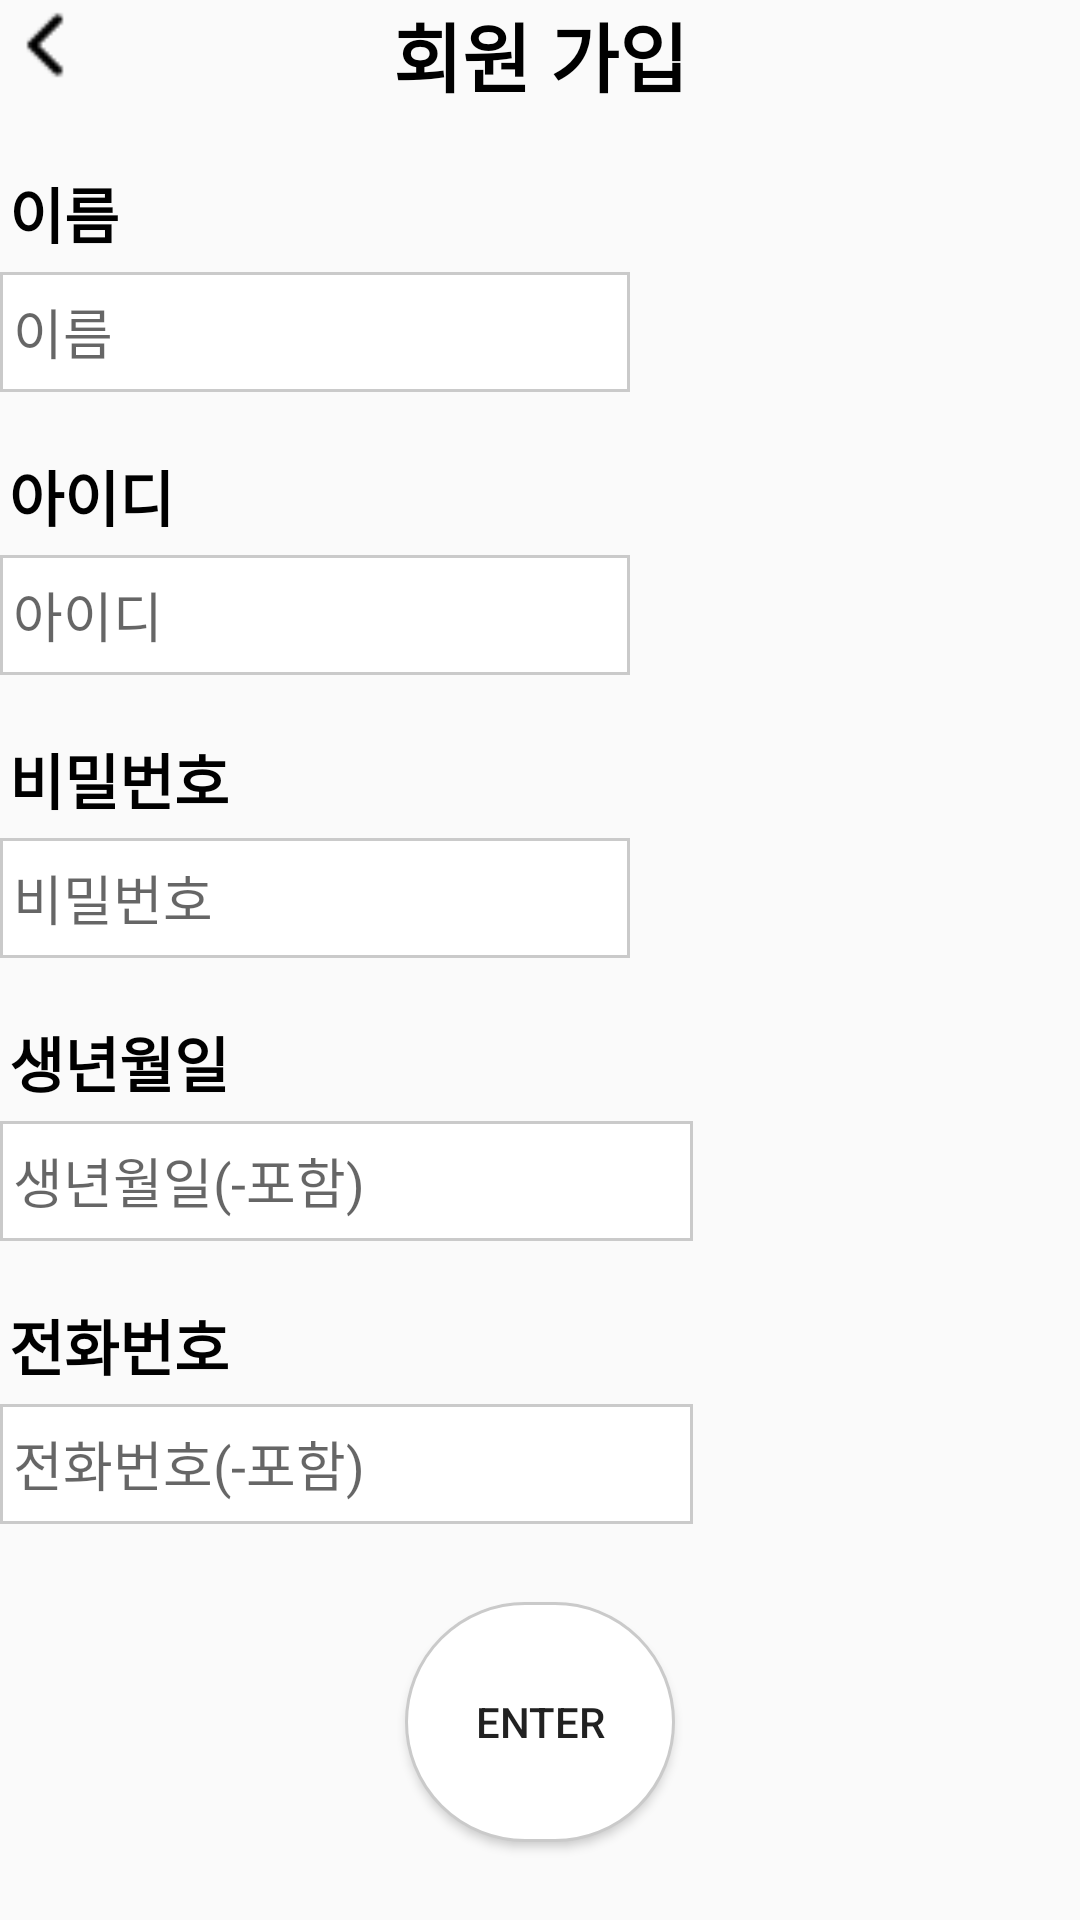

Icons on this 1080 × 1920 Android screen, each with the point to tap as (x,y):
back: (45,45)
